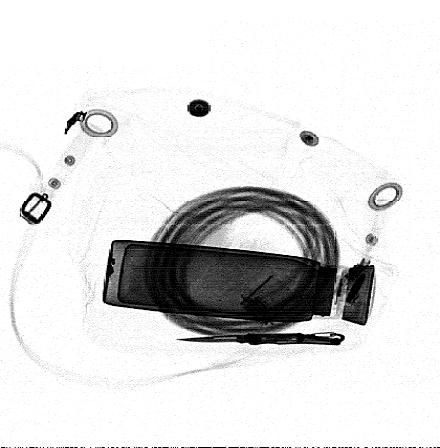Knife: (175, 331, 346, 347)
